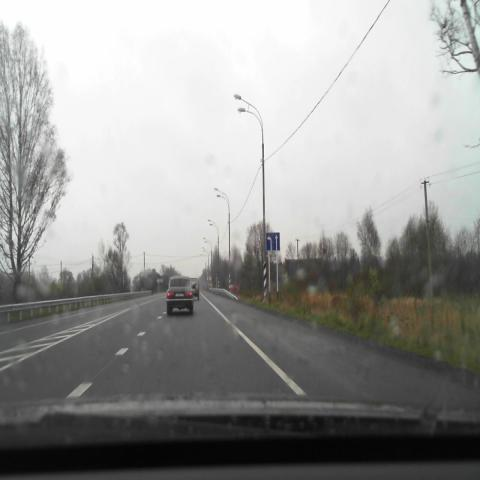5_15_2_2: (266, 233, 279, 251)
